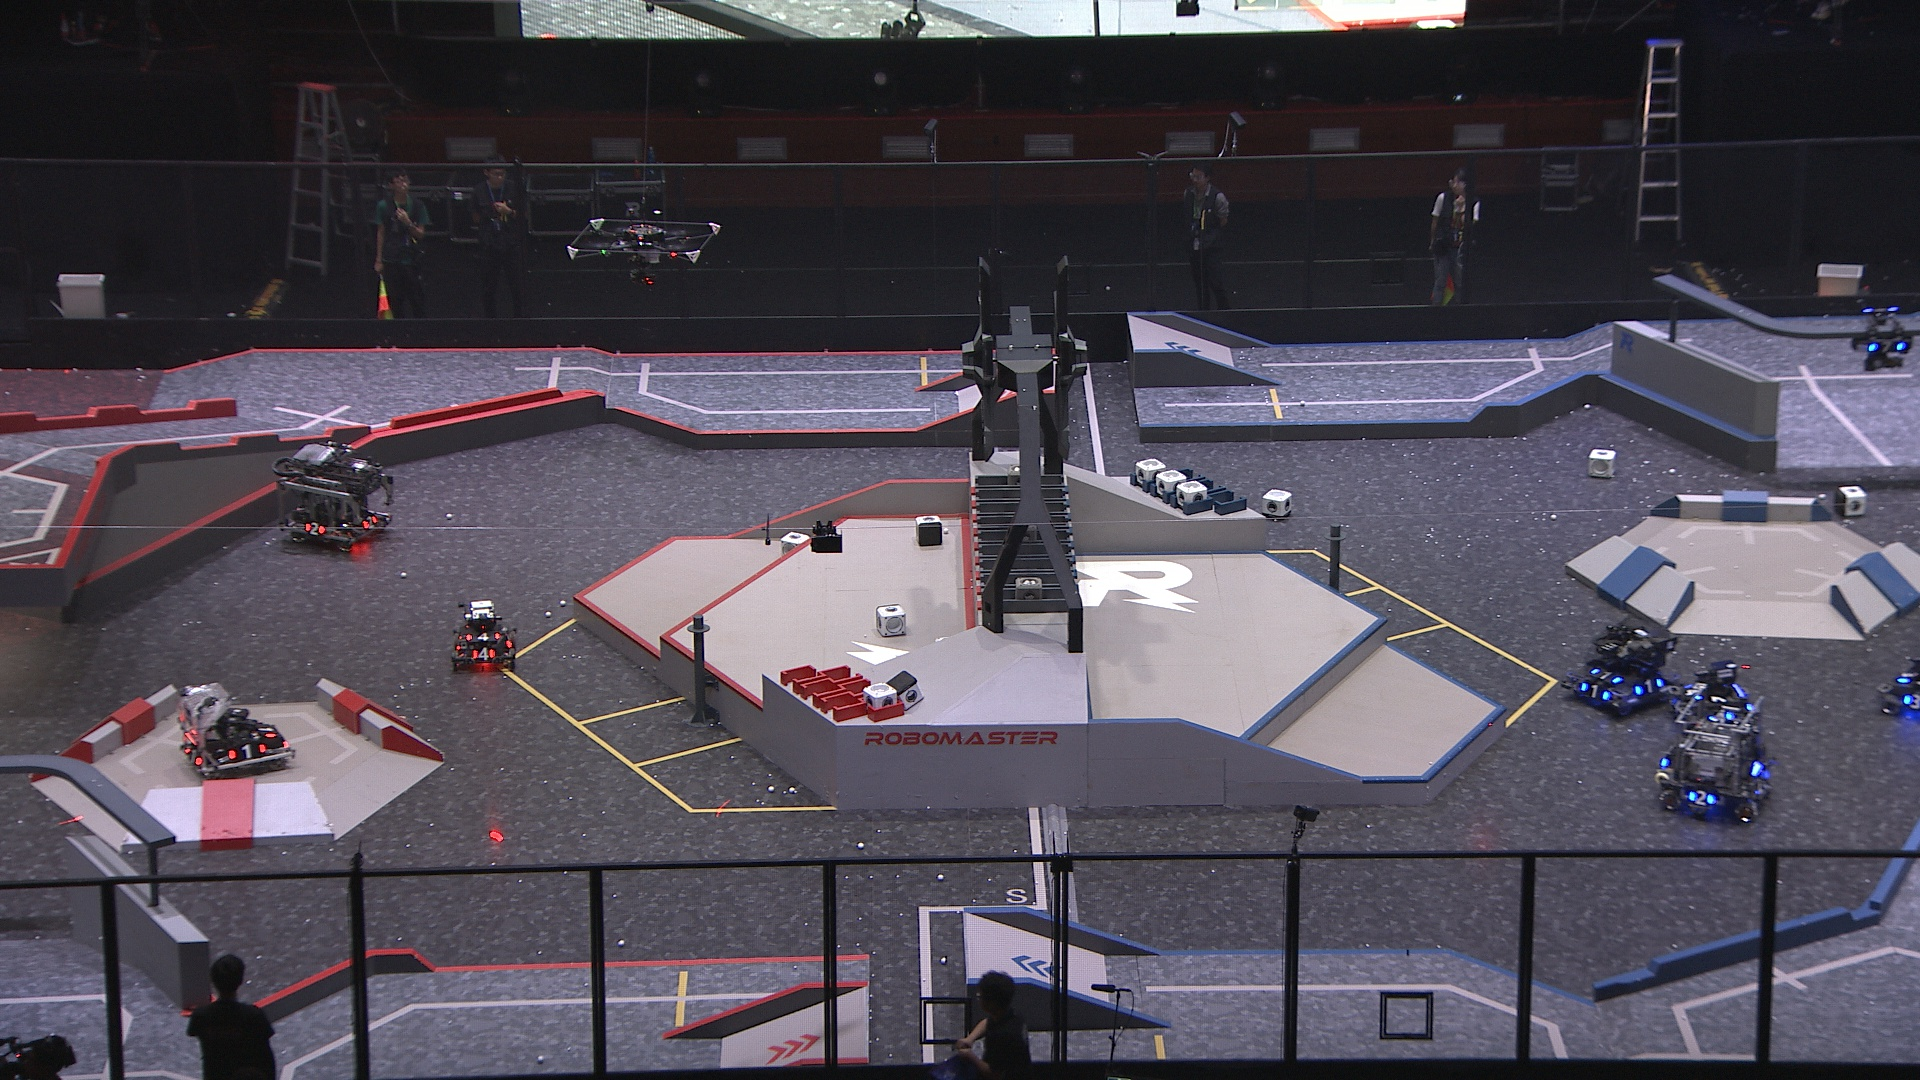armor: (225, 738, 268, 764), (1865, 338, 1908, 357), (1578, 680, 1613, 704), (1588, 666, 1623, 688), (1634, 674, 1665, 698), (182, 744, 208, 770), (1687, 785, 1716, 808), (299, 518, 328, 541), (357, 508, 382, 531), (252, 719, 278, 741), (469, 646, 495, 669), (465, 628, 500, 644), (1899, 688, 1920, 712), (1894, 670, 1916, 688)
car: (1648, 695, 1768, 828), (268, 436, 392, 555), (171, 679, 295, 782), (1552, 616, 1680, 713), (1669, 662, 1760, 731), (447, 597, 517, 671), (1874, 646, 1920, 723)
watcher: (1850, 305, 1913, 371)
